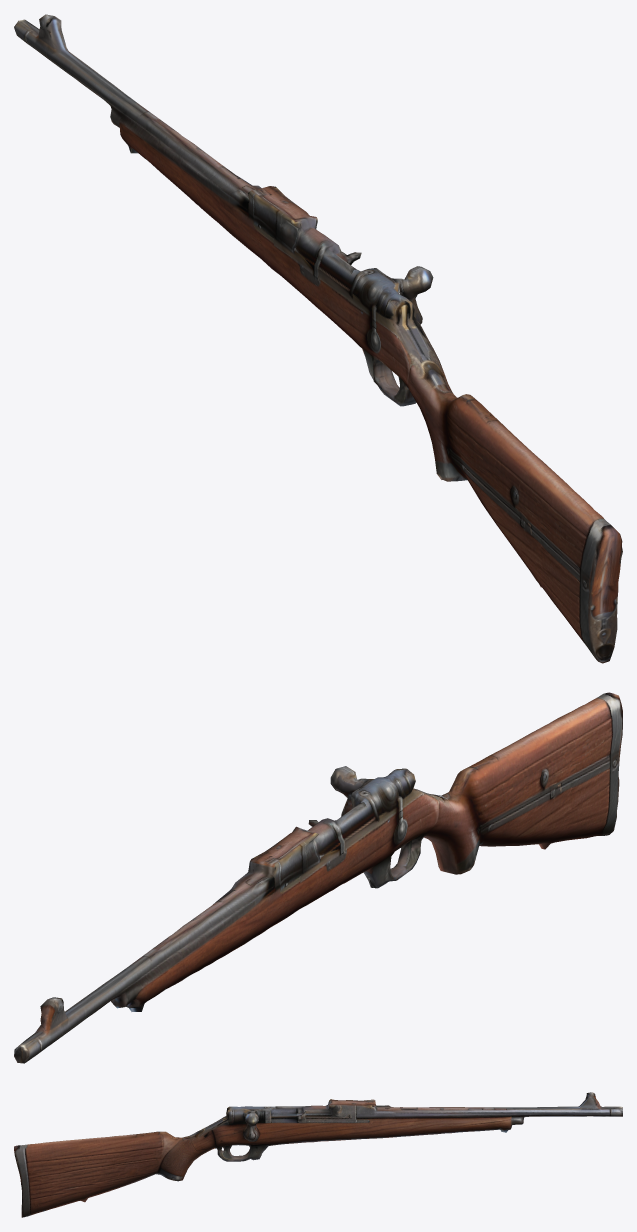
Rendered from rifle.glb.
3 views of the same model, one above another, from view 1: azimuth 30°, elevation 25°; view 2: azimuth 150°, elevation 25°; view 3: azimuth 270°, elevation 25° (orthographic). The views are drawn at different scales.
Size of the model in its own units: 0.1285 by 0.4526 by 2.01.
Materials: 1 (1 with a texture image).
